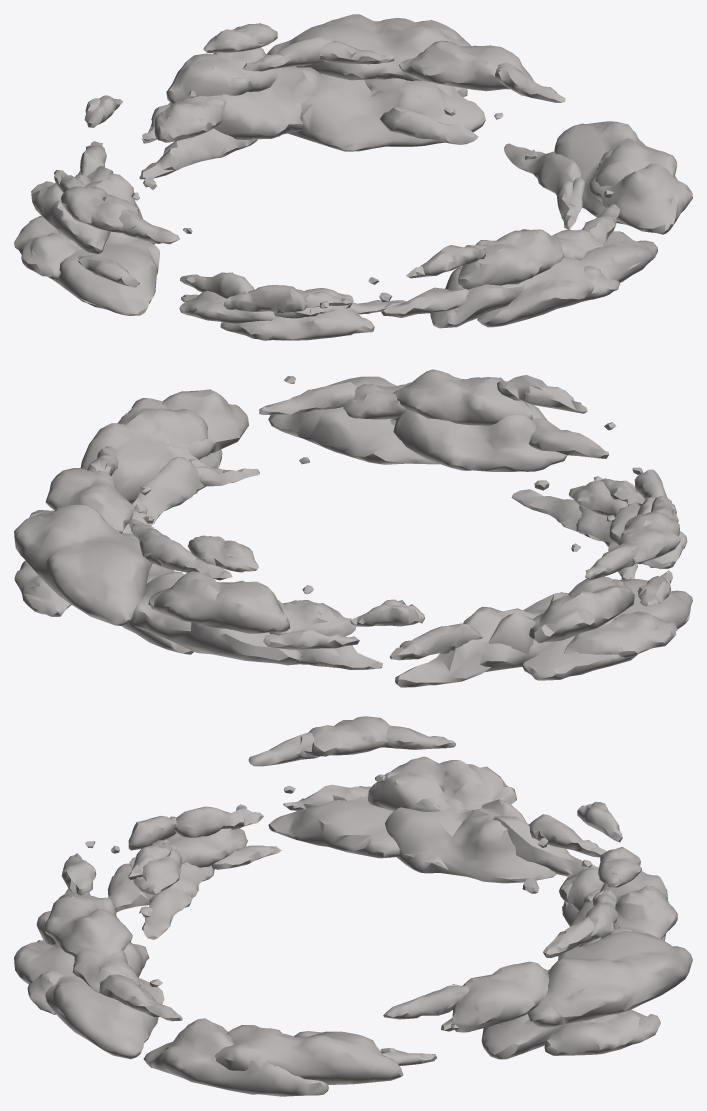
File: SM_Env_CloudRing_Larger_01.glb
3 renders of one model, top to bottom at view 1: azimuth 30°, elevation 25°; view 2: azimuth 150°, elevation 25°; view 3: azimuth 270°, elevation 25°, orthographic. The views are drawn at different scales.
Parts seen in each view (by area): view 1: SM_Env_CloudRing_Larger_01; view 2: SM_Env_CloudRing_Larger_01; view 3: SM_Env_CloudRing_Larger_01.
Part boxes in pixels (x1=…): SM_Env_CloudRing_Larger_01: x1=14, y1=14, x2=692, y2=340; SM_Env_CloudRing_Larger_01: x1=14, y1=369, x2=692, y2=687; SM_Env_CloudRing_Larger_01: x1=14, y1=716, x2=692, y2=1096.
Size of the model in its own units: 308 by 54.12 by 291.
1 material, 1 textured.
